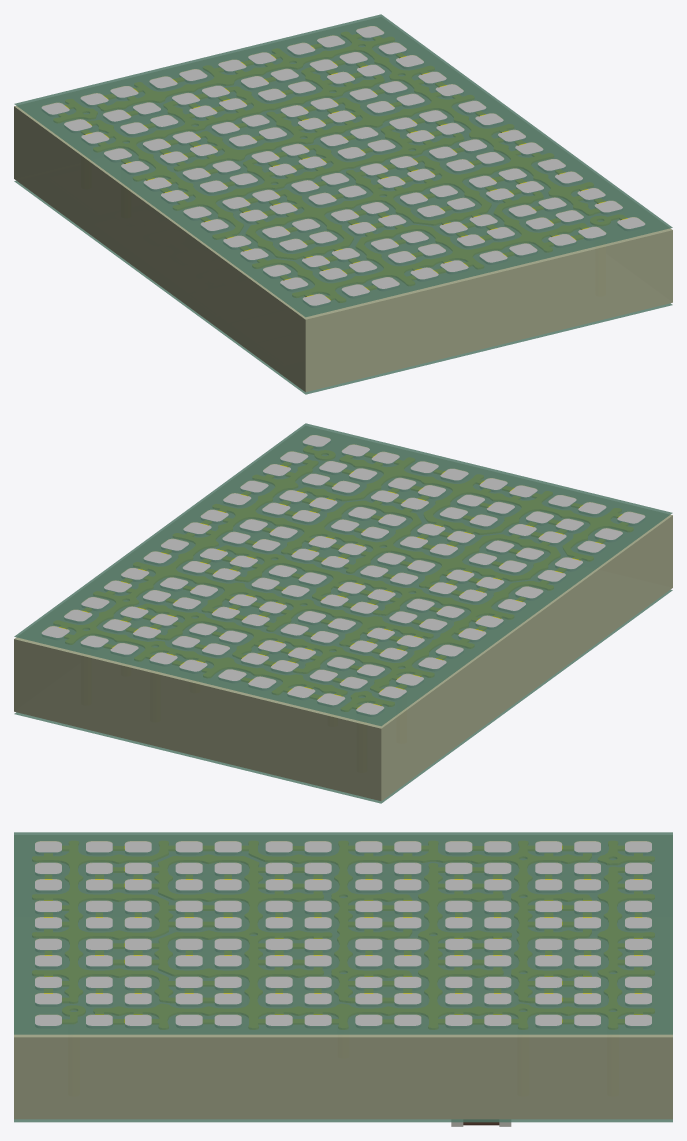
File: redot-rgb.glb
3 renders of one model, top to bottom at view 1: azimuth 30°, elevation 25°; view 2: azimuth 150°, elevation 25°; view 3: azimuth 270°, elevation 25°, orthographic. The views are drawn at different scales.
Visible parts, largest first — view 1: =>[0:1:1:7], =>[0:1:1:3]; view 2: =>[0:1:1:7], =>[0:1:1:3]; view 3: =>[0:1:1:7], =>[0:1:1:3].
Part boxes in pixels (x1,y1,x2,y2): =>[0:1:1:7]: [14, 14, 672, 394]; =>[0:1:1:3]: [41, 26, 645, 307]; =>[0:1:1:7]: [14, 423, 672, 803]; =>[0:1:1:3]: [41, 435, 645, 716]; =>[0:1:1:7]: [14, 832, 672, 1122]; =>[0:1:1:3]: [32, 841, 654, 1126].
Size of the model in its own units: 0.008 by 0.00214 by 0.011.
Materials: 2 (2 with a texture image).
